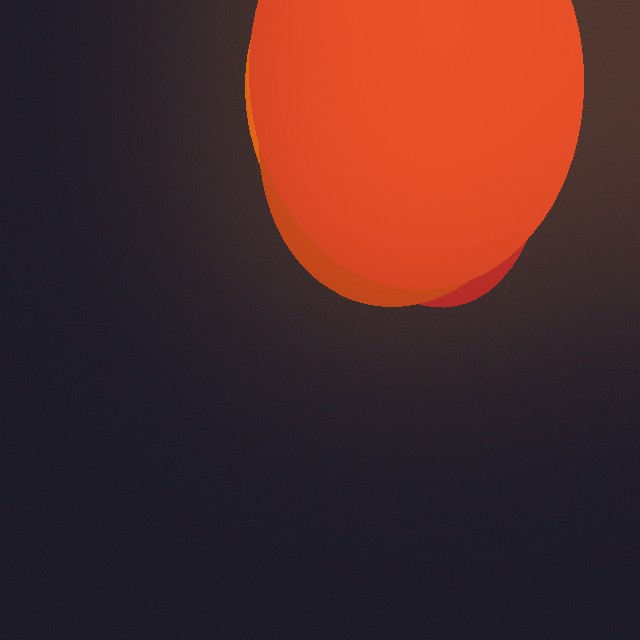fire: (269, 71, 563, 189)
